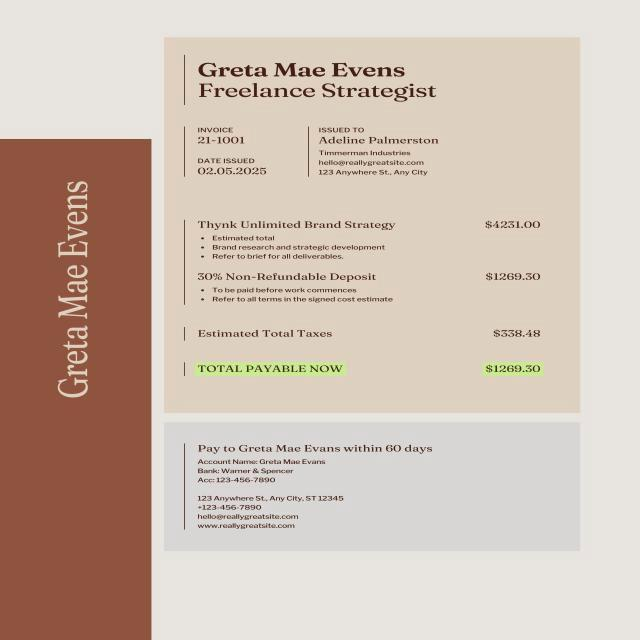paragraph: (192, 216, 558, 312), (194, 443, 442, 531), (52, 178, 100, 412), (193, 60, 443, 103), (193, 356, 551, 381), (317, 123, 453, 178), (191, 327, 545, 340), (194, 153, 275, 180), (191, 122, 254, 144)
